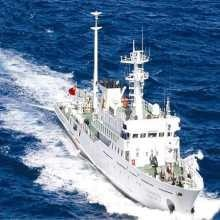warship: (62, 9, 202, 212)
